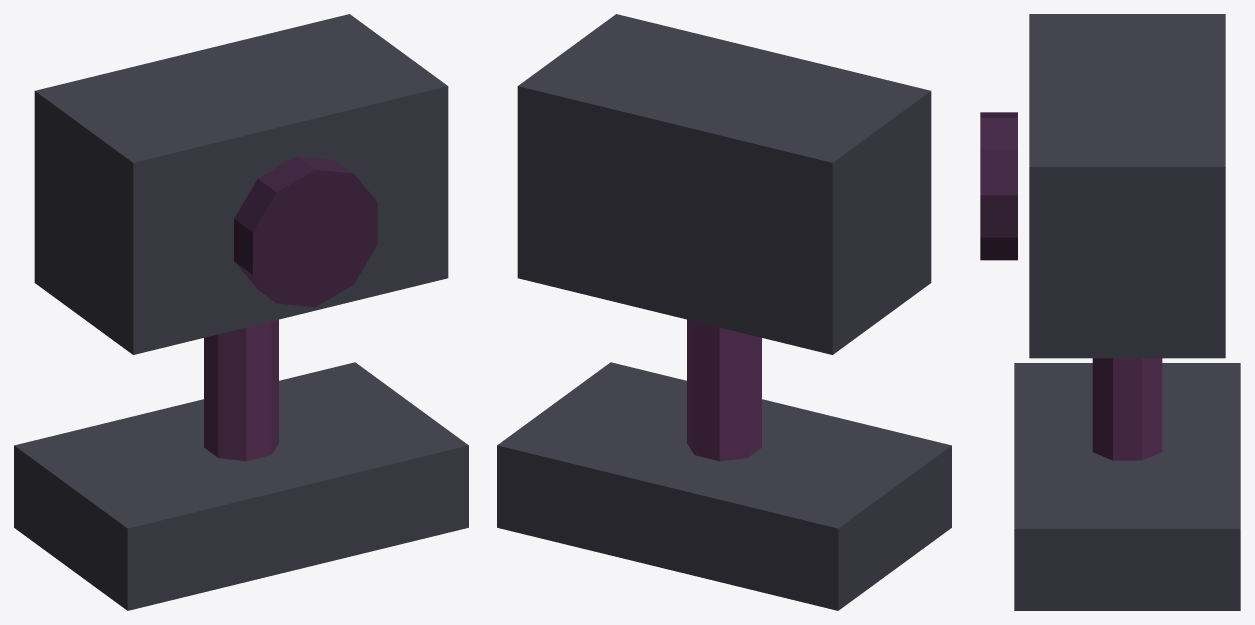
Rendered from webcam.obj.
3 renders of one model, left to right at view 1: azimuth 30°, elevation 25°; view 2: azimuth 150°, elevation 25°; view 3: azimuth 270°, elevation 25°, orthographic.
Parts seen in each view (by area): view 1: camera-body, clamp-base, round-lens, short-mount; view 2: camera-body, clamp-base, short-mount; view 3: camera-body, clamp-base, short-mount, round-lens.
Boxes of the visible parts, left/top/right/bottom form: camera-body: left=34, top=14, right=448, bottom=354; clamp-base: left=14, top=362, right=468, bottom=610; round-lens: left=234, top=156, right=377, bottom=307; short-mount: left=204, top=319, right=278, bottom=461; camera-body: left=517, top=14, right=931, bottom=354; clamp-base: left=497, top=362, right=951, bottom=610; short-mount: left=687, top=319, right=761, bottom=461; camera-body: left=1029, top=14, right=1225, bottom=358; clamp-base: left=1014, top=363, right=1240, bottom=610; short-mount: left=1092, top=358, right=1162, bottom=460; round-lens: left=980, top=112, right=1017, bottom=260.
Size of the model in its own units: 0.52 by 0.64 by 0.345.
